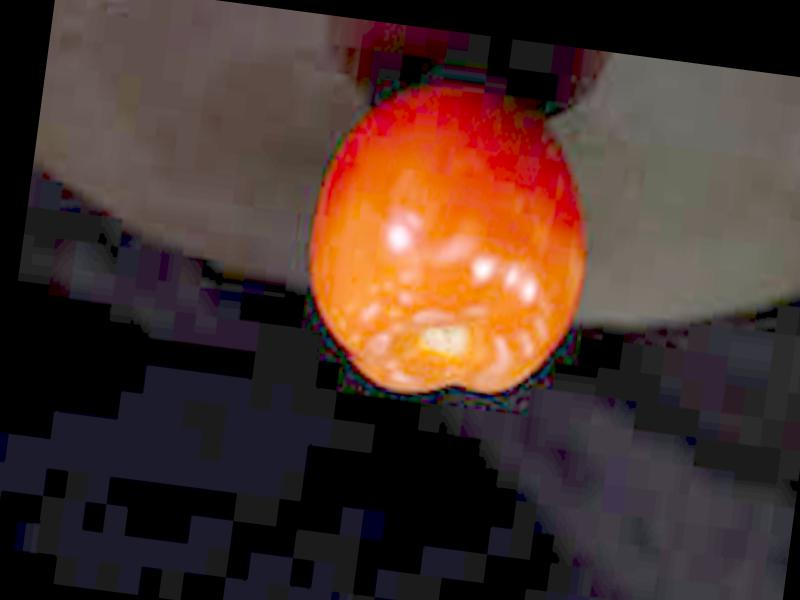Tomato: (289, 75, 604, 413)
